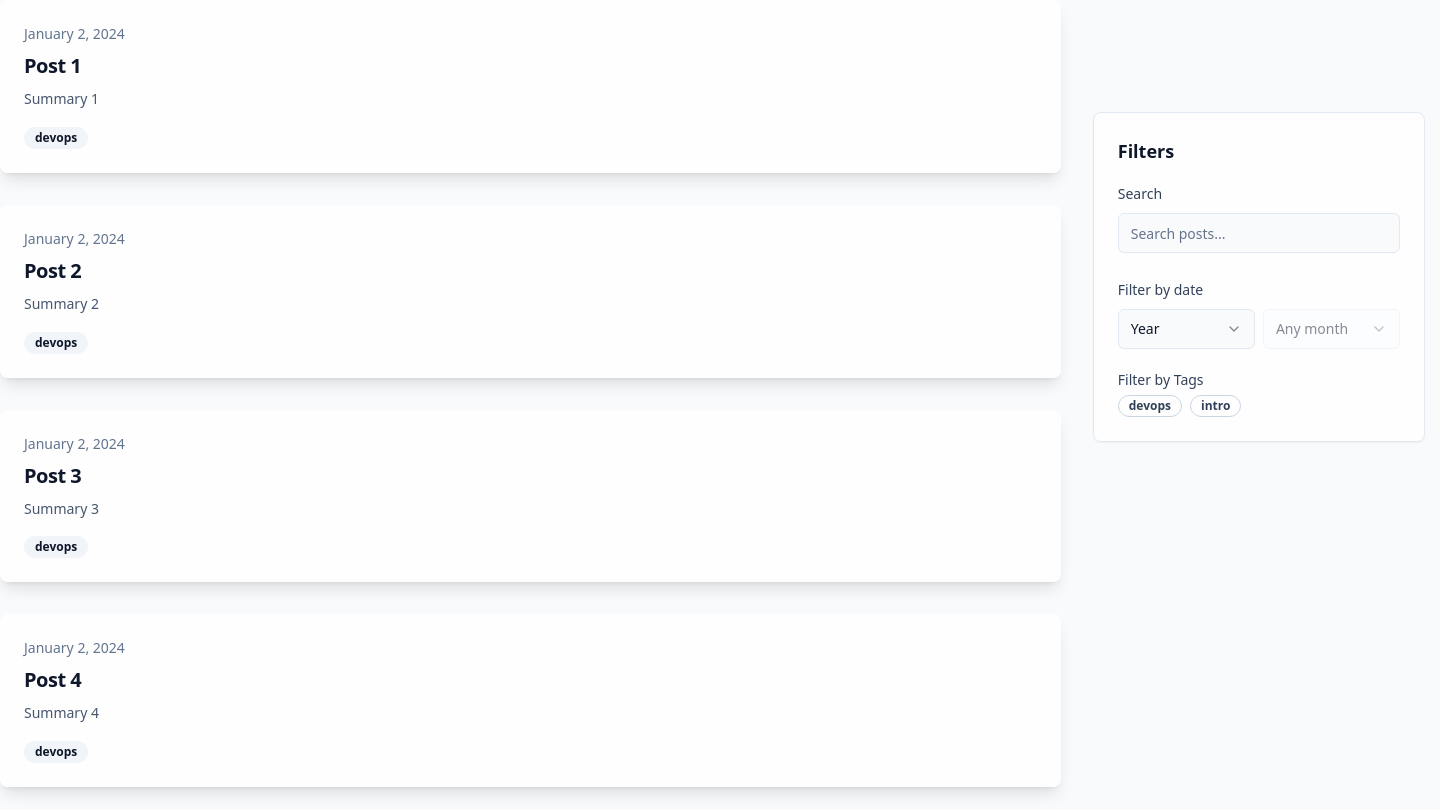
Test case: BlogsContent › pages through filtered posts
The image size is (1440, 810).
Click the text "devops" next to "intro" at (1150, 406), box [1118,395,1182,417]
(page scrolled)
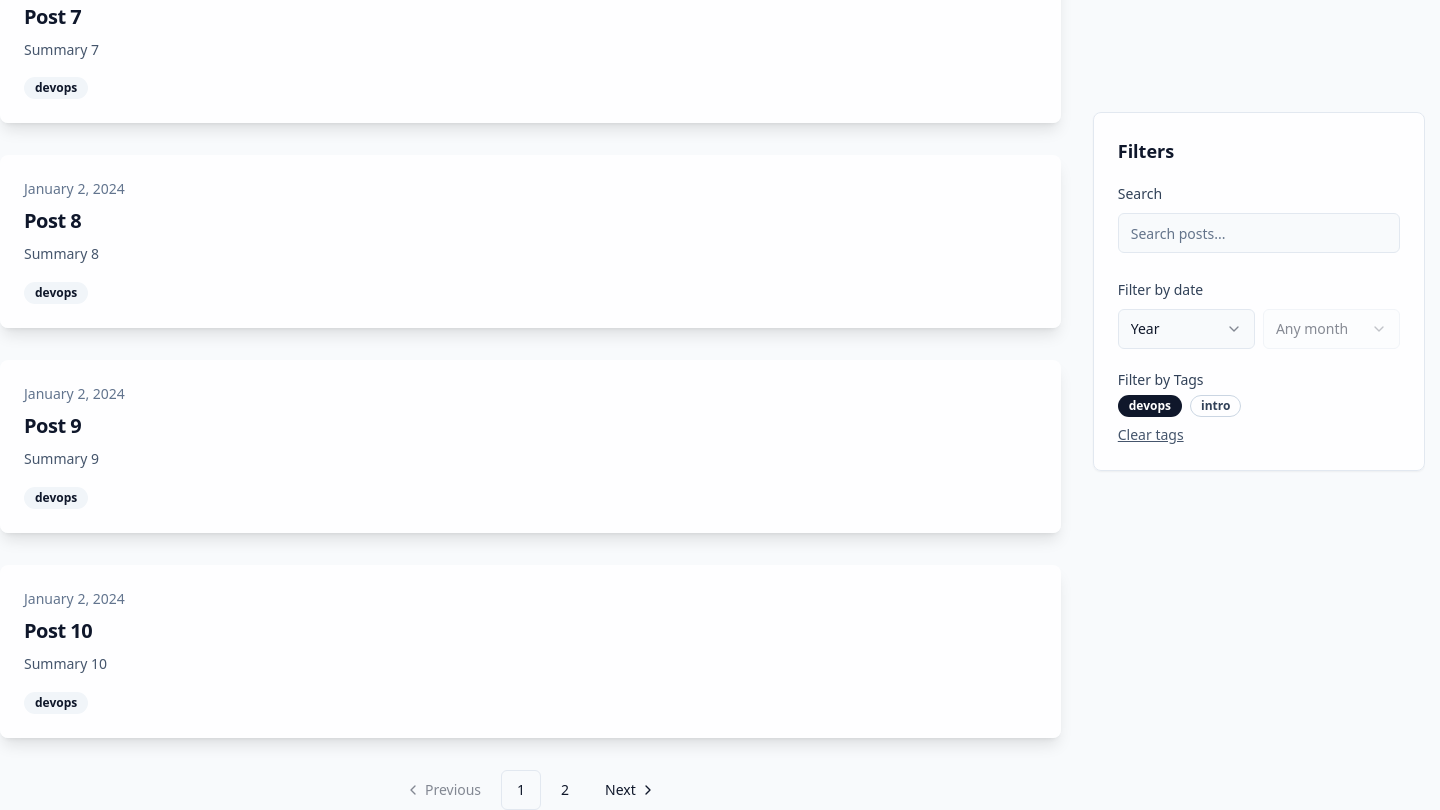
expect the text "Post 11" is not shown: met
Click the link "2" at (565, 789), box [561,780,569,798]
(page scrolled)
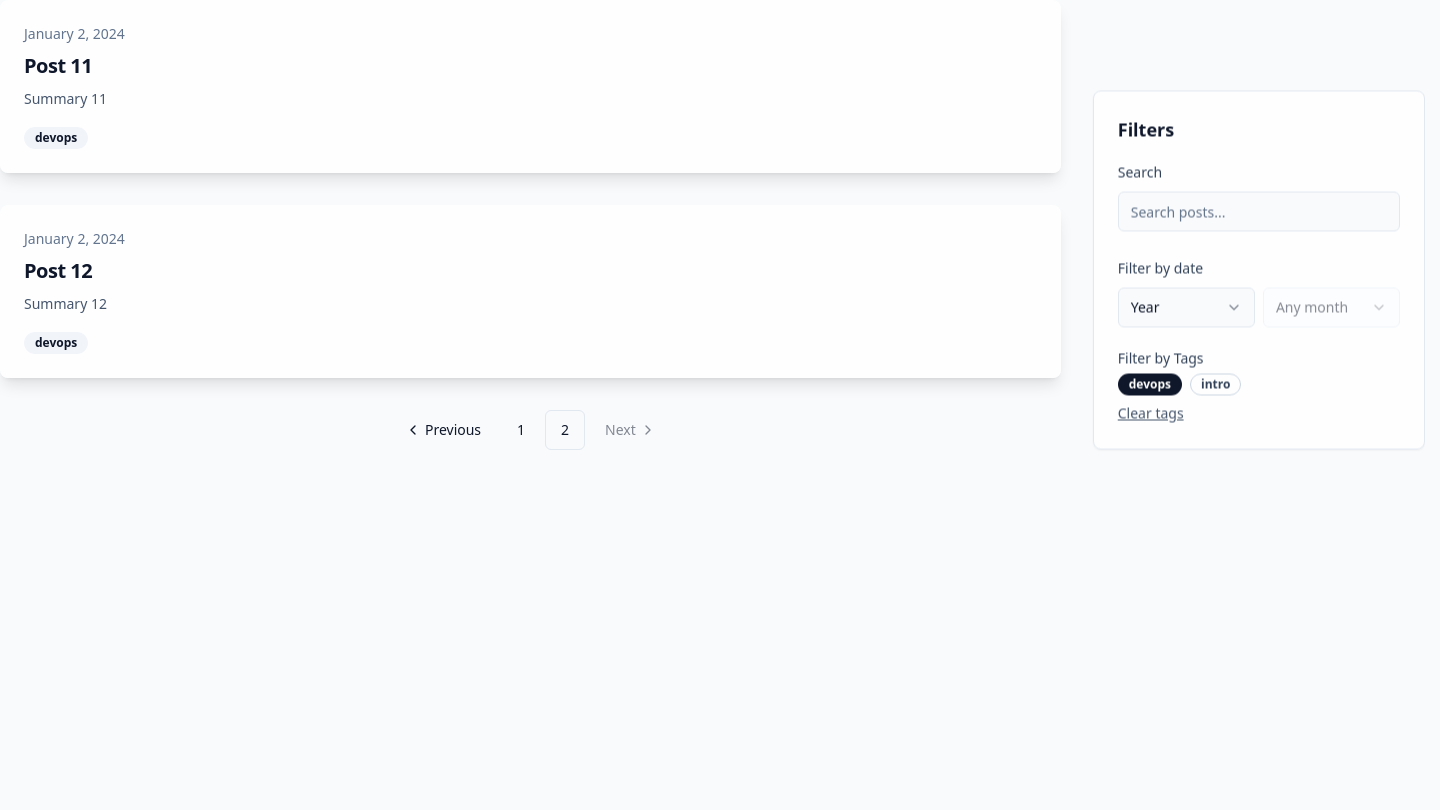
expect the text "Post 11" is shown: met, box [24,52,92,79]
expect the text "Post 12" is shown: met, box [24,257,92,284]
